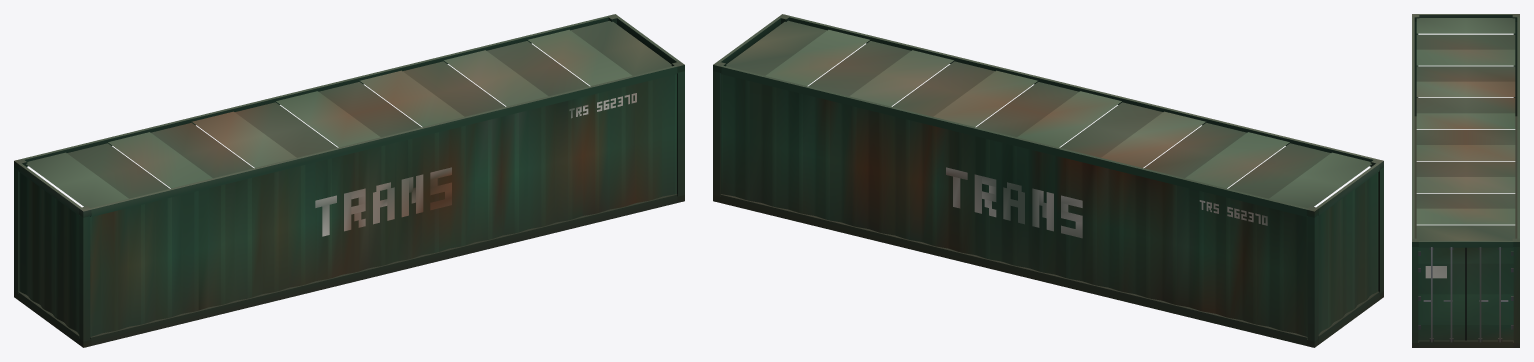
Rendered from container_green.glb.
3 views of the same model, side by side, from view 1: azimuth 30°, elevation 25°; view 2: azimuth 150°, elevation 25°; view 3: azimuth 270°, elevation 25° (orthographic). The views are drawn at different scales.
Parts seen in each view (by area): view 1: Container; view 2: Container; view 3: Container.
Part boxes in pixels (x1,y1,x2,y2): Container: [14, 14, 684, 347]; Container: [713, 14, 1383, 347]; Container: [1412, 14, 1519, 347].
Size of the model in its own units: 12 by 2.6 by 2.4.
